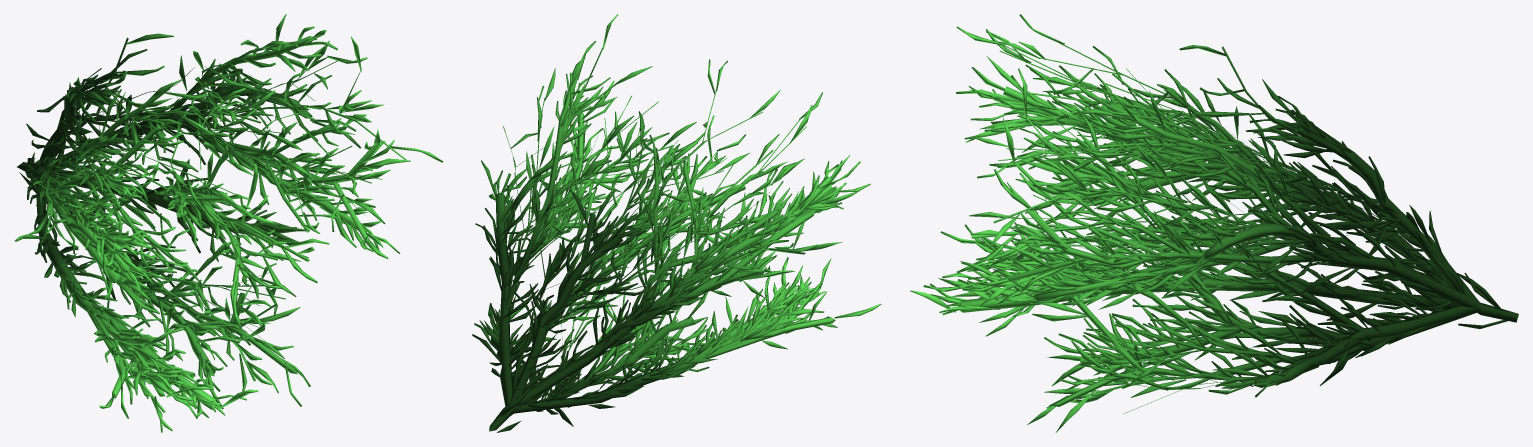
Rendered from rosemary_garum.fbx.
3 renders of one model, left to right at view 1: azimuth 30°, elevation 25°; view 2: azimuth 150°, elevation 25°; view 3: azimuth 270°, elevation 25°, orthographic. The views are drawn at different scales.
Visible parts, largest first — view 1: Herbs; view 2: Herbs; view 3: Herbs.
Boxes of the visible parts, x1,y1,x2,y2 form: Herbs: (14, 14, 443, 432); Herbs: (472, 14, 881, 432); Herbs: (910, 14, 1518, 432).
Bounding box in the file's own units: 58.92 × 54.24 × 78.44.
1 material, 1 textured.
